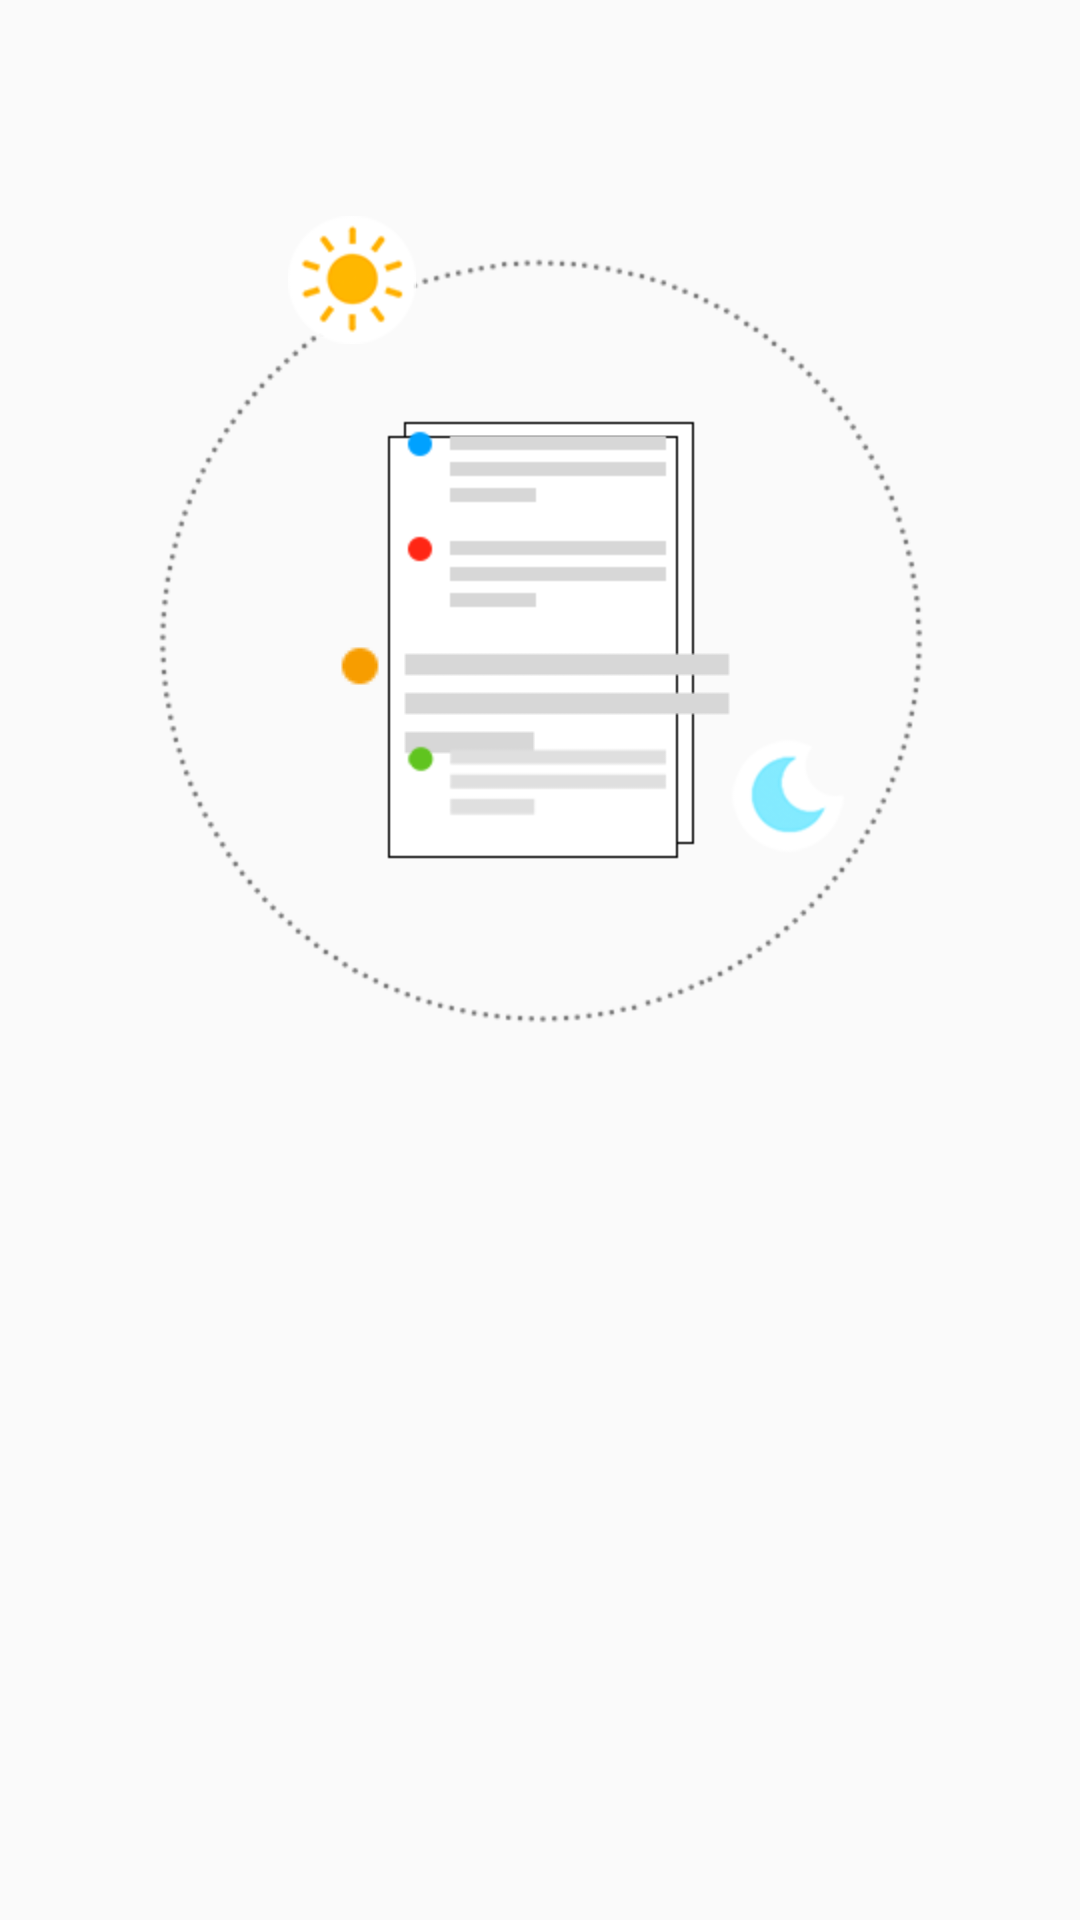

Point at icon controls on the screen. Image size 1080×1920, points as (x,y).
onboarding moon: (801,808)
onboarding sun: (352,285)
